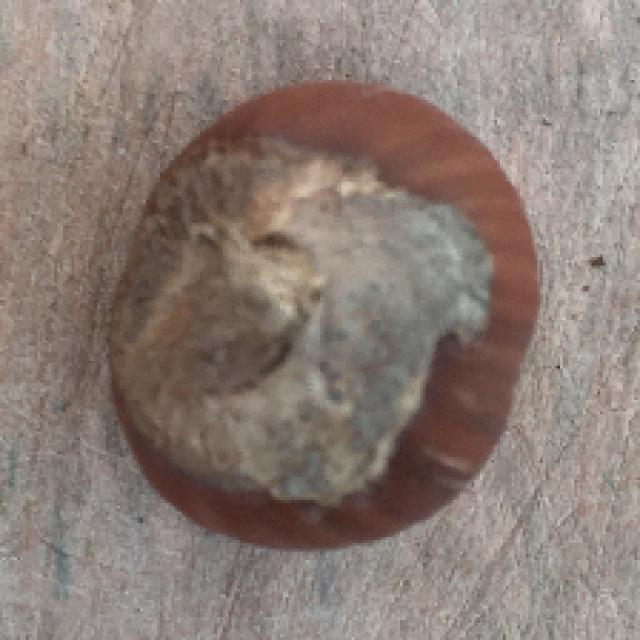damagedHazelnut: (105, 71, 537, 552)
